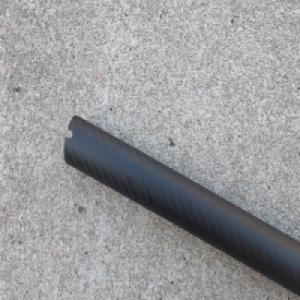LuggagePart: (62, 114, 300, 298)
